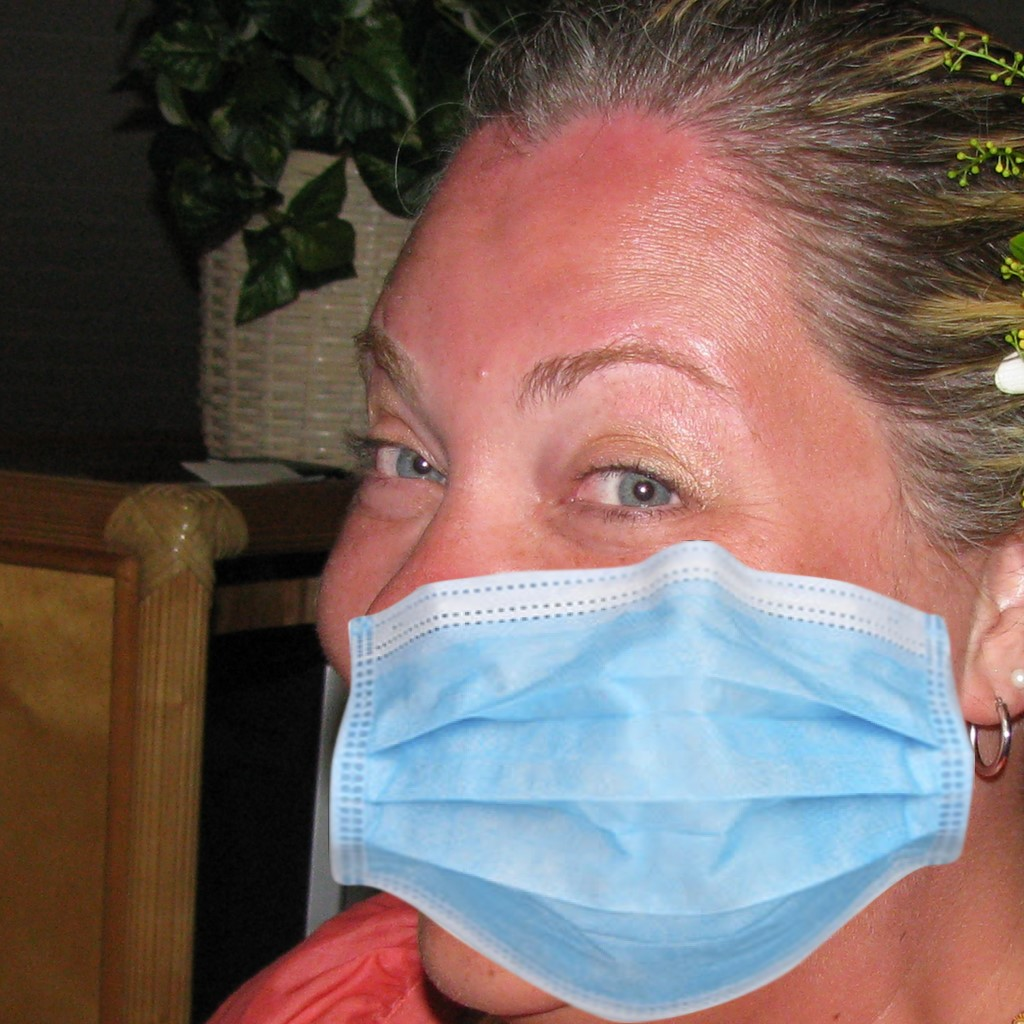con_mascara: (312, 132, 983, 1015)
